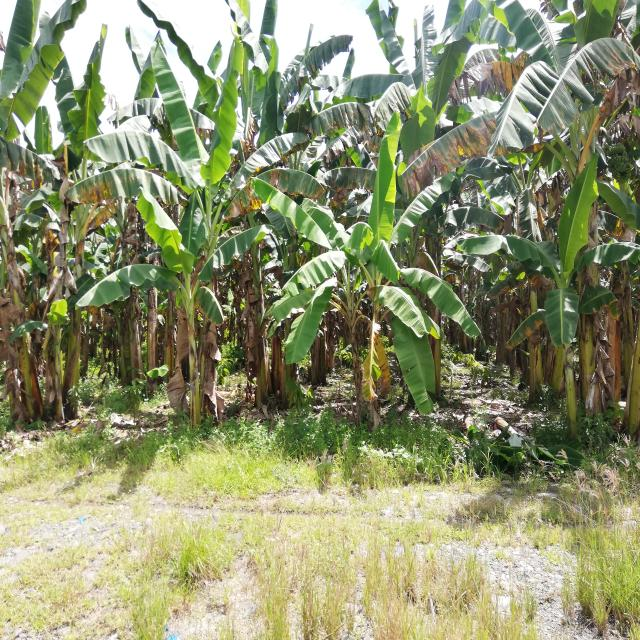Banana-plant: (558, 126, 603, 428), (0, 175, 42, 421), (238, 171, 270, 414), (63, 206, 89, 422), (182, 242, 206, 428), (44, 293, 71, 426)
